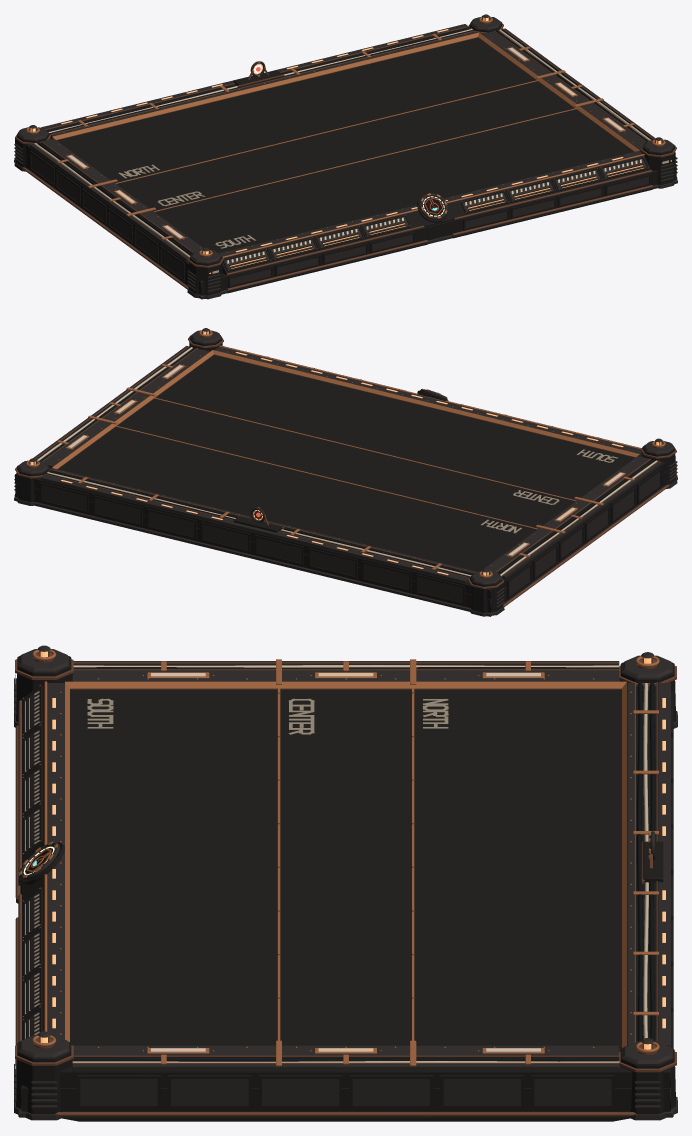
Rendered from blackout.glb.
The picture shows the model from 3 angles, top to bottom: view 1: azimuth 30°, elevation 25°; view 2: azimuth 150°, elevation 25°; view 3: azimuth 270°, elevation 25°; orthographic projection. The views are drawn at different scales.
Parts seen in each view (by area): view 1: body_board_steel, body_board_panel, body_board_trim_bright, body_board_trim, body_board_rubber, body_board_ivory, body_glow_ember, body_accent_glow; view 2: body_board_steel, body_board_panel, body_board_trim_bright, body_board_trim, body_board_rubber, body_board_ivory, body_accent_glow; view 3: body_board_steel, body_board_panel, body_board_trim_bright, body_board_trim, body_board_rubber, body_board_ivory, body_accent_glow.
Boxes of the visible parts, x1,y1,x2,y2 form: body_board_steel: [15, 19, 676, 295]; body_board_panel: [14, 16, 677, 299]; body_board_trim_bright: [52, 32, 648, 270]; body_board_trim: [15, 21, 676, 290]; body_board_rubber: [37, 27, 652, 293]; body_board_ivory: [34, 29, 668, 273]; body_glow_ember: [230, 165, 643, 268]; body_accent_glow: [61, 29, 671, 273]; body_board_steel: [15, 332, 676, 612]; body_board_panel: [14, 330, 677, 616]; body_board_trim_bright: [52, 345, 640, 569]; body_board_trim: [15, 335, 676, 606]; body_board_rubber: [39, 347, 654, 577]; body_board_ivory: [37, 347, 657, 576]; body_accent_glow: [61, 352, 623, 575]; body_board_steel: [16, 656, 675, 1121]; body_board_panel: [14, 649, 677, 1120]; body_board_trim_bright: [18, 659, 658, 1066]; body_board_trim: [15, 659, 676, 1116]; body_board_rubber: [16, 667, 655, 1061]; body_board_ivory: [15, 665, 648, 1065]; body_accent_glow: [15, 673, 665, 1068].
Bounding box in the file's own units: 18.87 × 2.36 × 12.87.
